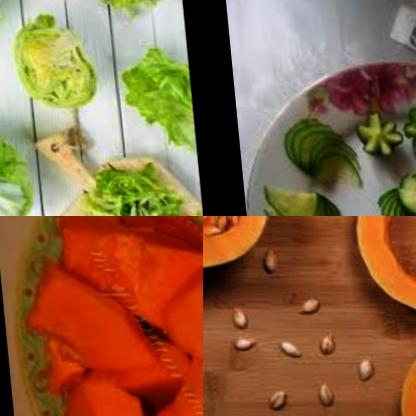cucumber: (277, 114, 362, 180), (348, 96, 416, 170), (257, 181, 351, 216), (366, 159, 416, 216)
pumpkin: (20, 256, 155, 376), (46, 216, 153, 299), (346, 216, 416, 326), (124, 226, 203, 319), (152, 264, 203, 388), (203, 216, 280, 295), (51, 376, 149, 416), (384, 330, 416, 416), (161, 358, 203, 416)
salad: (3, 14, 101, 113), (110, 51, 190, 145), (67, 161, 179, 216), (0, 131, 31, 216)
